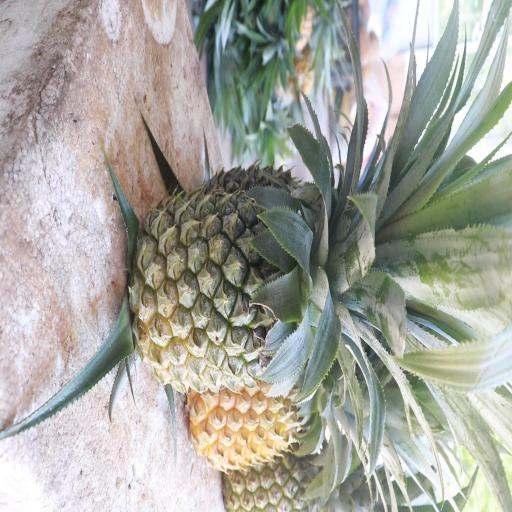------------------------------: (136, 180, 342, 390)
Pineapple - v8 v1: (192, 371, 325, 474)
